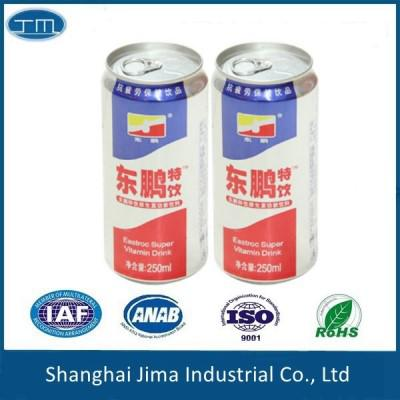beer: (101, 41, 322, 287)
